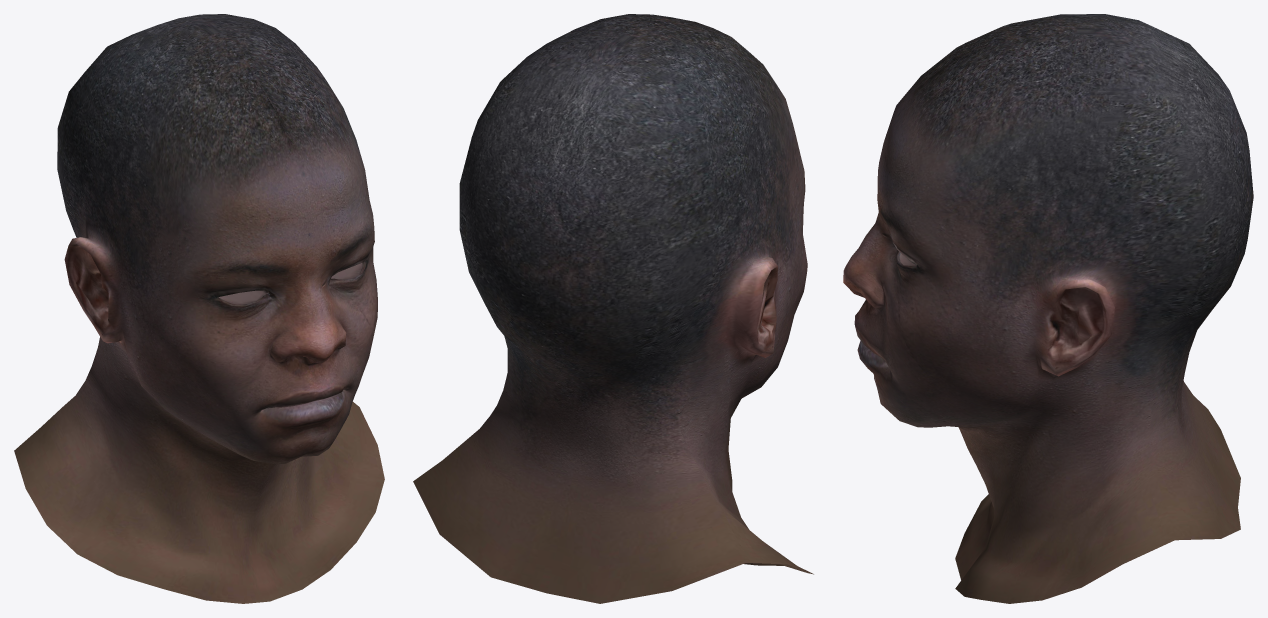
The model's file is african_head.obj.
3 renders of one model, left to right at view 1: azimuth 30°, elevation 25°; view 2: azimuth 150°, elevation 25°; view 3: azimuth 270°, elevation 25°, orthographic. The views are drawn at different scales.
Parts seen in each view (by area): view 1: head; view 2: head; view 3: head.
Part boxes in pixels (x1,y1,x2,y2): head: (14, 14, 384, 603); head: (413, 14, 813, 603); head: (843, 14, 1253, 603).
Bounding box in the file's own units: 1.32 × 2 × 1.35.
Materials: 1 (1 with a texture image).
